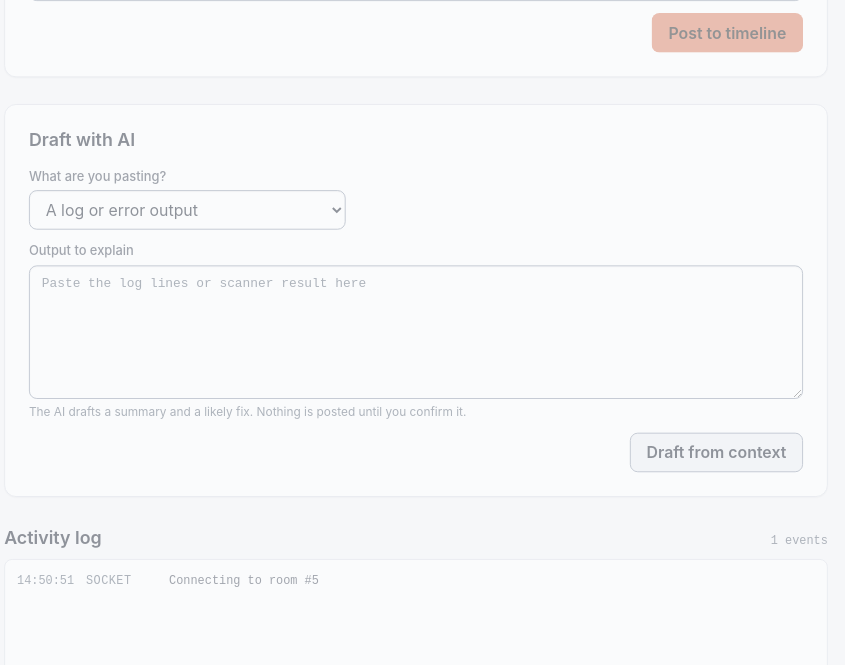
Test: RoomDetailsPage › AI drafts › says the provider did not answer on a 504 and keeps the paste for a retry
The image size is (845, 665).
(page scrolled)
Type "some log" into the text box labelled "Output to explain". click: (416, 332)
box: [29,265,803,398]
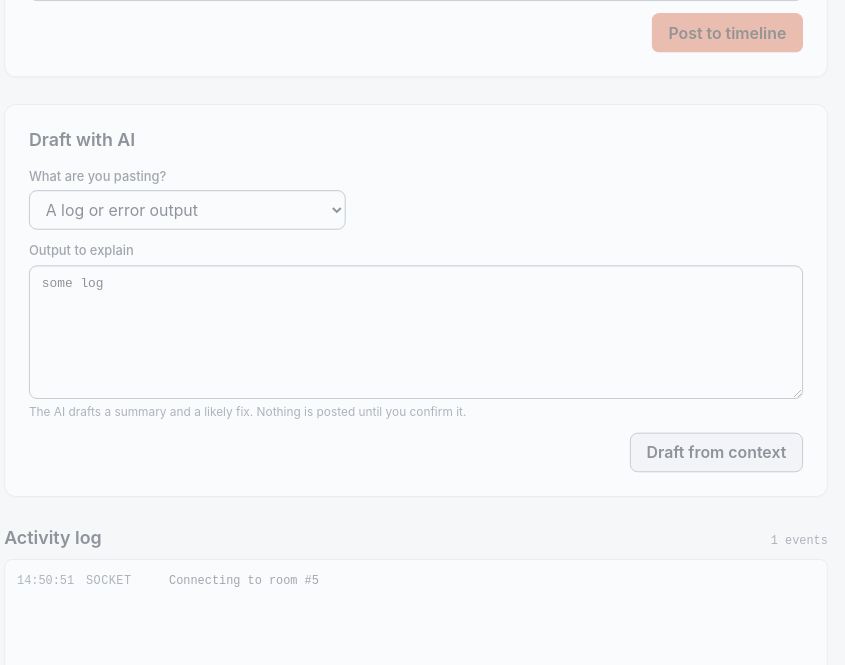
Click the button "Draft from context". click: (716, 452)
box: [630,432,803,472]
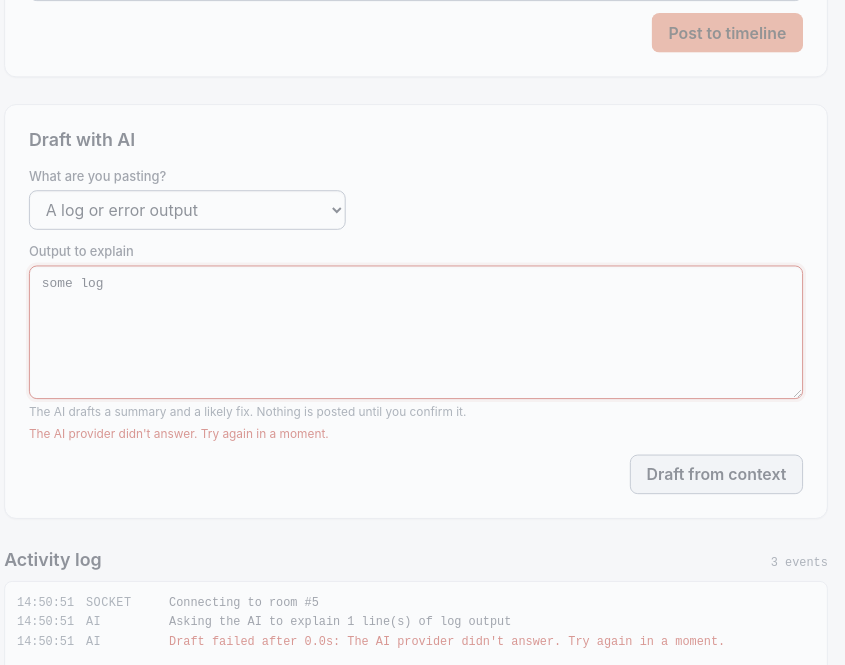
Result: the text "The AI provider didn't answer. Try again in a moment." is shown at [29,425,329,440]
